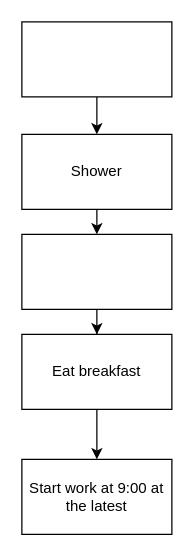
Some shapes in this 194 by 556 pixel diagram are drawn without their labels. Here are the shapes that lost their labels. From the top down, the box of each, then its label:
(21, 21, 172, 97): Wake up at 6 o'clock
(21, 233, 172, 309): Cook breakfast
